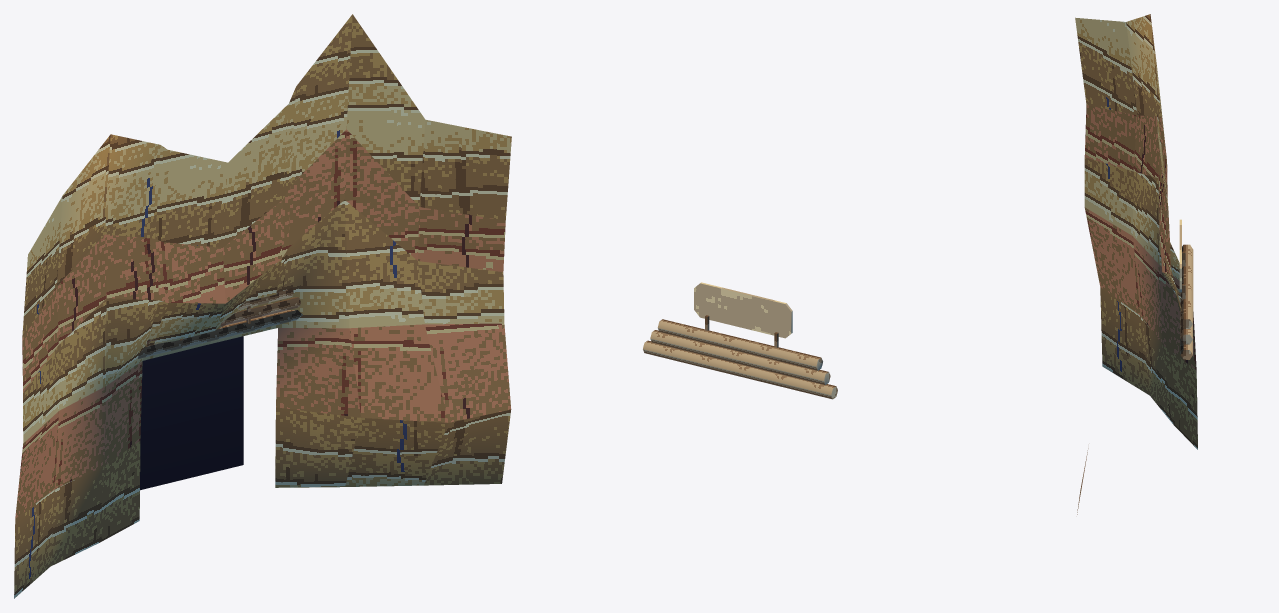
File: wmine.portal.glb
3 views of the same model, side by side, from view 1: azimuth 30°, elevation 25°; view 2: azimuth 150°, elevation 25°; view 3: azimuth 270°, elevation 25° (orthographic). The views are drawn at different scales.
Parts seen in each view (by area): view 1: kit_shell_face, kit_card_depth, kit_lagging; view 2: kit_lagging, kit_trim; view 3: kit_shell_face, kit_lagging.
Part boxes in pixels (bbox=[...]): kit_shell_face: bbox=[14, 14, 511, 598]; kit_card_depth: bbox=[140, 336, 243, 490]; kit_lagging: bbox=[138, 288, 302, 358]; kit_lagging: bbox=[643, 319, 837, 399]; kit_trim: bbox=[694, 282, 792, 338]; kit_shell_face: bbox=[1075, 14, 1197, 514]; kit_lagging: bbox=[1180, 244, 1193, 359].
Bounding box in the file's own units: 10 × 9.5 × 3.45.
7 materials, 7 textured.
